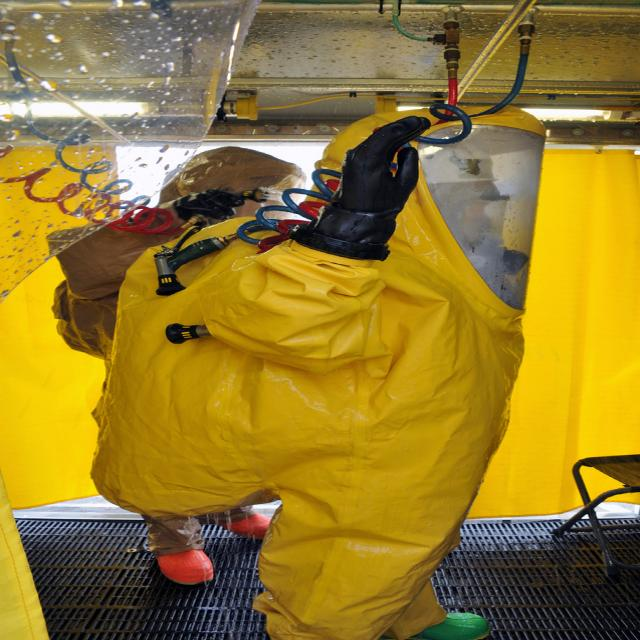no_fire: (20, 40, 600, 640)
